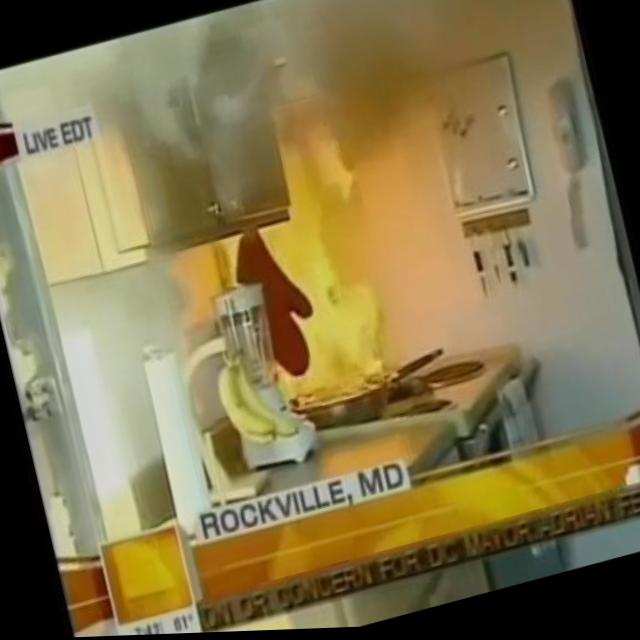fire: (183, 85, 415, 423)
